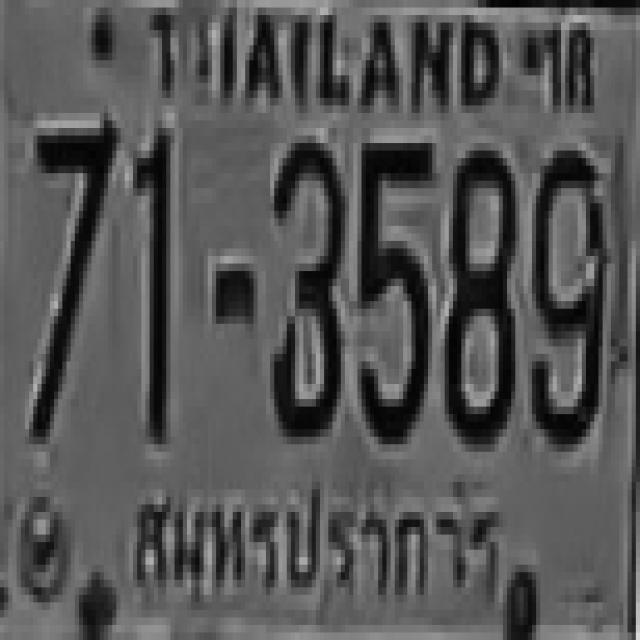1: (131, 120, 168, 437), (135, 117, 168, 440), (140, 117, 168, 440)
3: (270, 136, 341, 437)
5: (355, 136, 430, 437)
7: (31, 113, 114, 437)
8: (440, 143, 516, 437)
9: (528, 140, 602, 440)
SamutPrakan: (125, 472, 506, 613)
